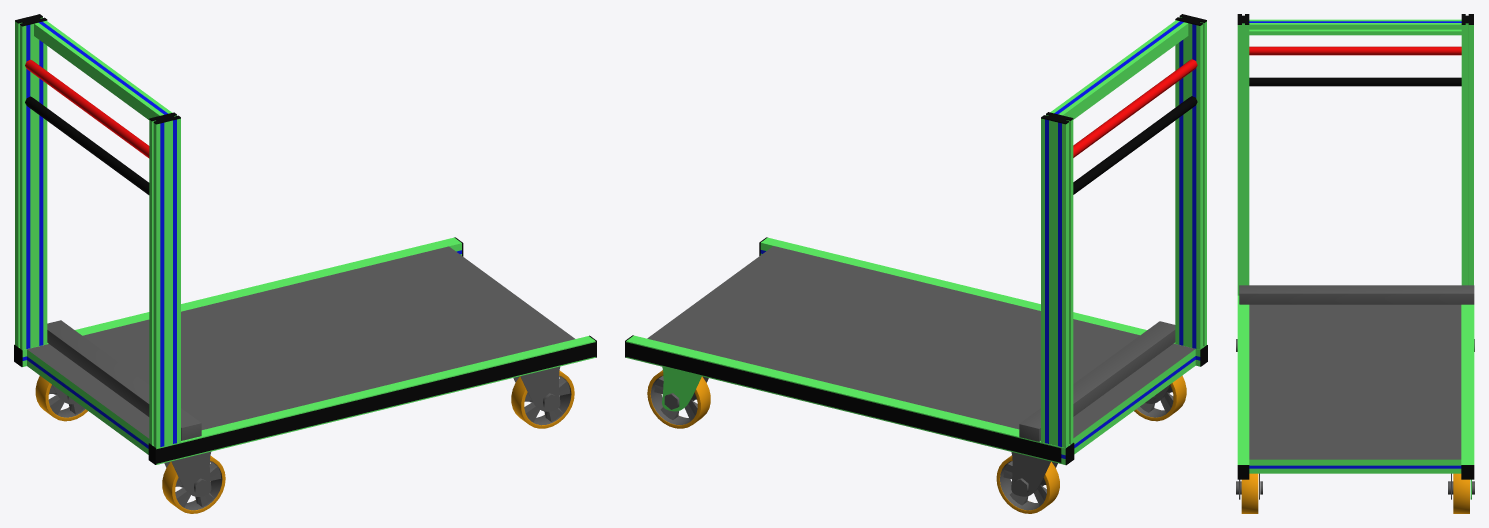
File: RC01 Kocheinheit.FBX
3 views of the same model, side by side, from view 1: azimuth 30°, elevation 25°; view 2: azimuth 150°, elevation 25°; view 3: azimuth 270°, elevation 25° (orthographic). The views are drawn at different scales.
Parts seen in each view (by area): view 1: Trolly_7; view 2: Trolly_7; view 3: Trolly_7.
Boxes of the visible parts, left/top/right/bottom form: Trolly_7: left=14, top=14, right=596, bottom=513; Trolly_7: left=625, top=14, right=1207, bottom=513; Trolly_7: left=1236, top=14, right=1474, bottom=513.
Size of the model in its own units: 13.95 by 12.16 by 7.82.
